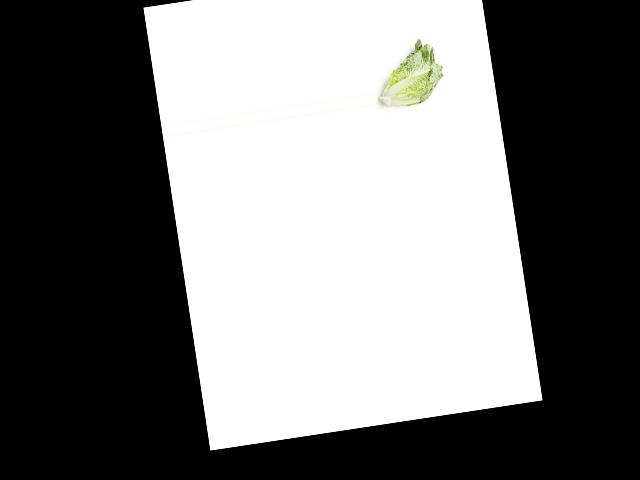lettuce: (373, 36, 450, 112)
